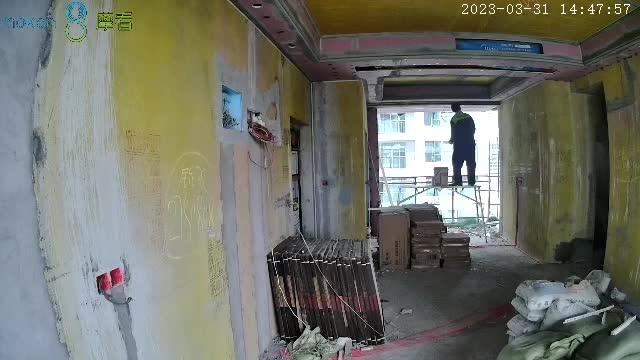people: (447, 105, 476, 185)
window: (377, 110, 501, 226)
